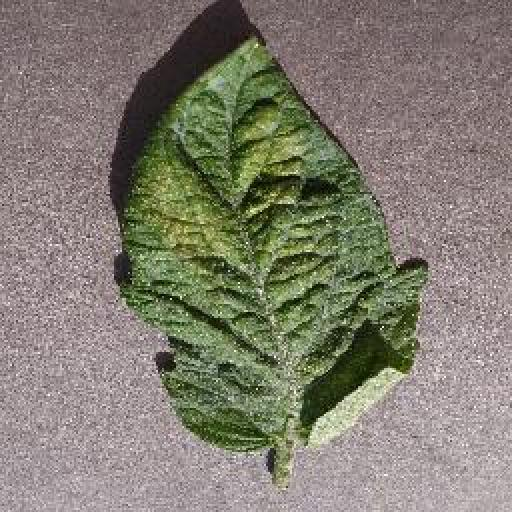Spider Mites: (121, 25, 428, 451)
